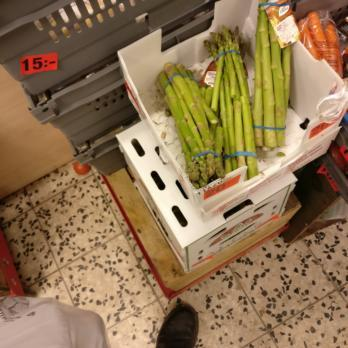Asparagus: (150, 0, 294, 176)
